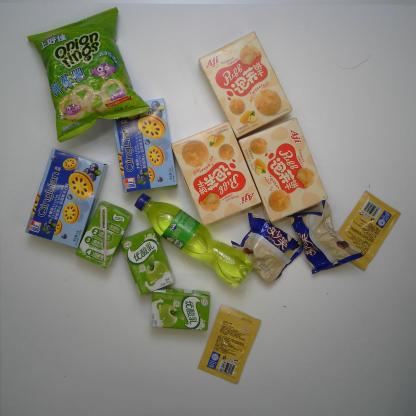Dessert: (197, 29, 294, 139), (236, 117, 328, 224), (170, 121, 262, 226), (22, 147, 109, 250), (111, 96, 180, 195), (286, 198, 364, 276), (229, 211, 303, 284)
Drink: (133, 193, 255, 289)
Milk: (72, 200, 134, 269), (120, 227, 176, 296), (148, 287, 211, 333)
Puffed Food: (25, 6, 151, 143)
Seasoner: (333, 190, 402, 272), (195, 304, 263, 386)
